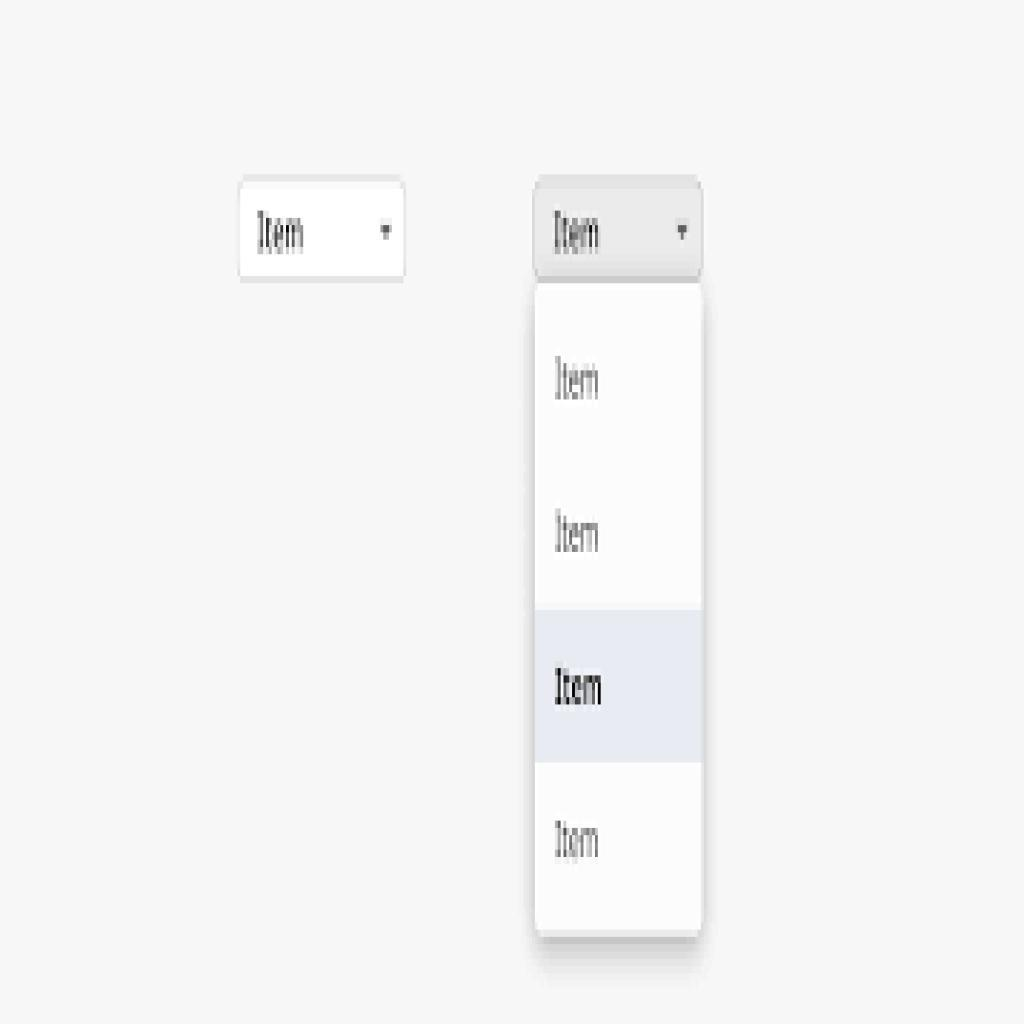dropdown: (239, 176, 408, 286), (534, 173, 706, 281)
